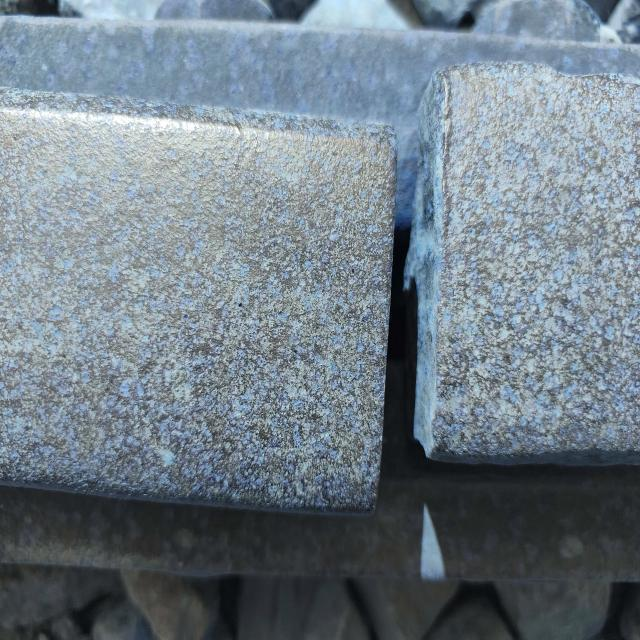broken_rail_medium: (354, 59, 482, 530)
